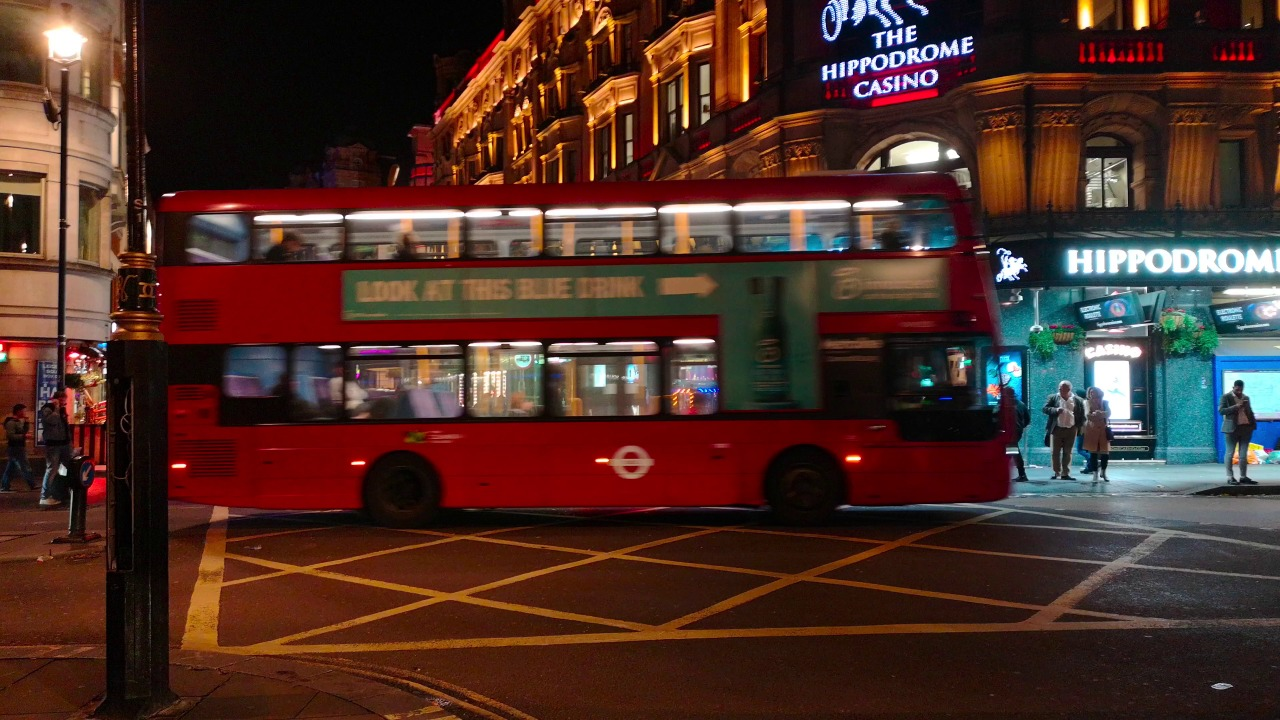car: (162, 183, 1002, 520)
person: (4, 396, 34, 507), (1004, 379, 1035, 483), (1221, 373, 1248, 477), (44, 391, 66, 510), (380, 219, 426, 275), (1085, 388, 1112, 476), (869, 207, 910, 257), (1053, 380, 1071, 481), (266, 222, 304, 266), (267, 362, 302, 409)
